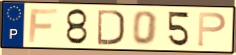0: (131, 9, 159, 48)
5: (167, 10, 191, 48)
8: (65, 7, 89, 45)
D: (96, 8, 127, 46)
F: (27, 8, 60, 44)
P: (196, 11, 228, 48)
